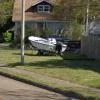Boat: (26, 26, 59, 58)
